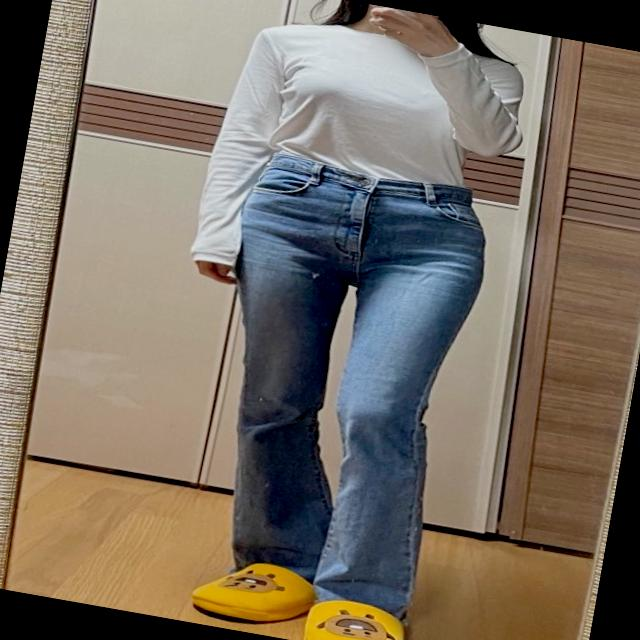denimpants: (181, 153, 504, 632)
longsleeve: (187, 0, 539, 313)
